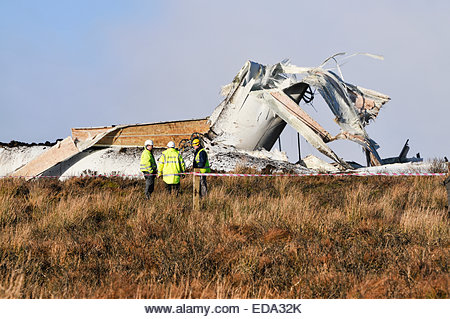faulty: (209, 50, 399, 144)
